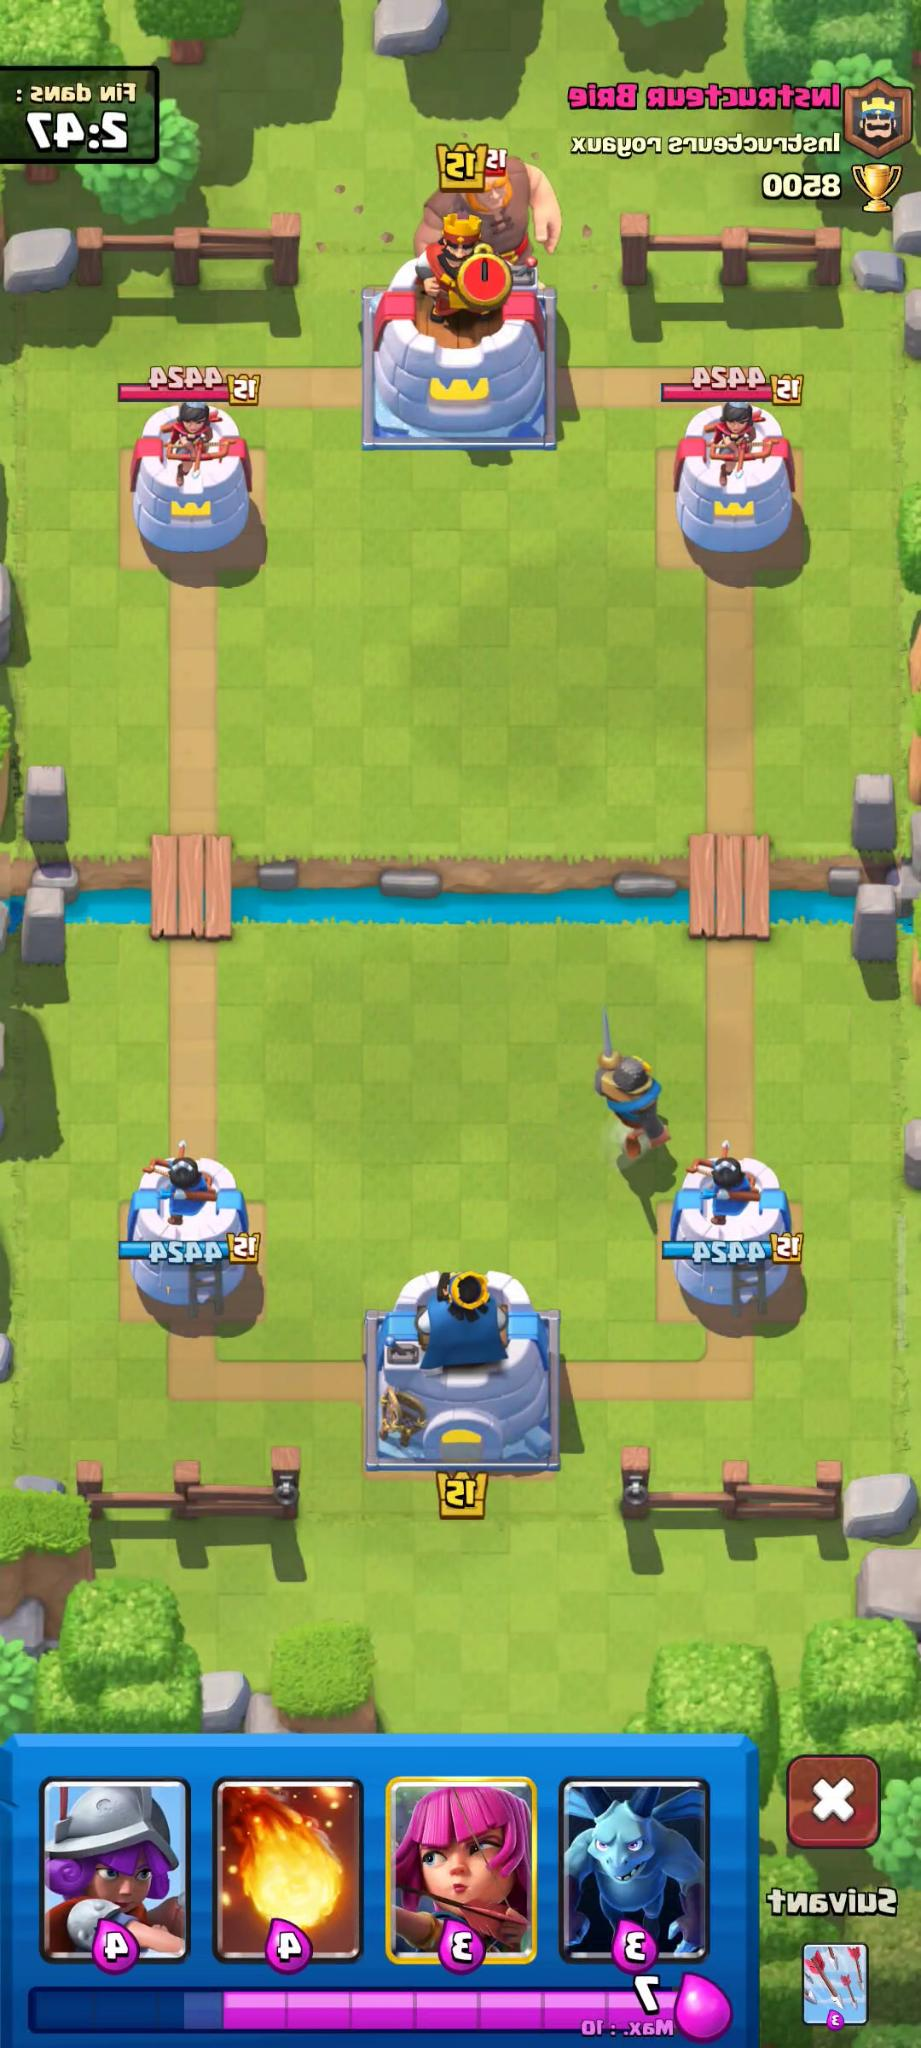chevalier: (583, 981, 696, 1200)
geant: (401, 128, 563, 333)
